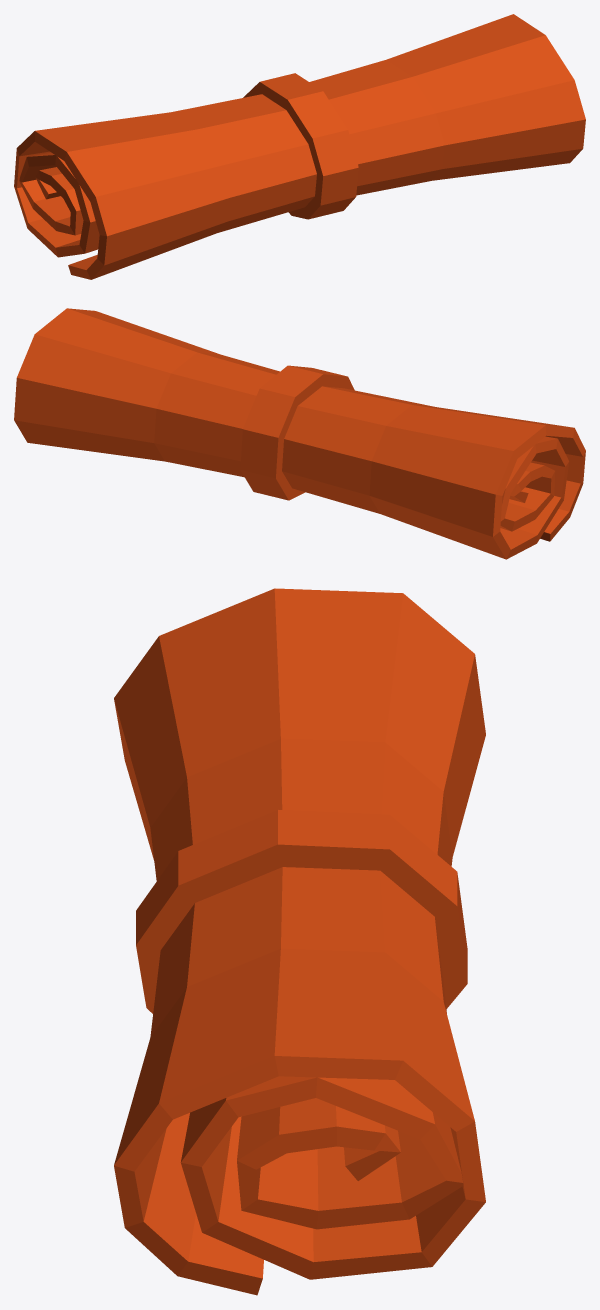
The model's file is Scroll.004.fbx.
3 renders of one model, top to bottom at view 1: azimuth 30°, elevation 25°; view 2: azimuth 150°, elevation 25°; view 3: azimuth 270°, elevation 25°, orthographic. The views are drawn at different scales.
Parts seen in each view (by area): view 1: Scroll.004; view 2: Scroll.004; view 3: Scroll.004.
Part boxes in pixels (<box>): Scroll.004: <box>14,14,585,279</box>; Scroll.004: <box>14,308,585,559</box>; Scroll.004: <box>114,588,485,1295</box>.
Size of the model in its own units: 48.48 by 11.48 by 16.16.
